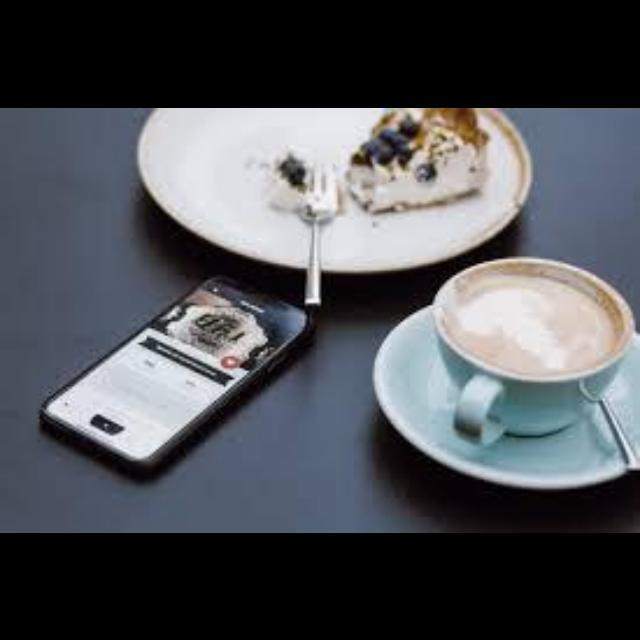phone: (32, 254, 321, 488)
